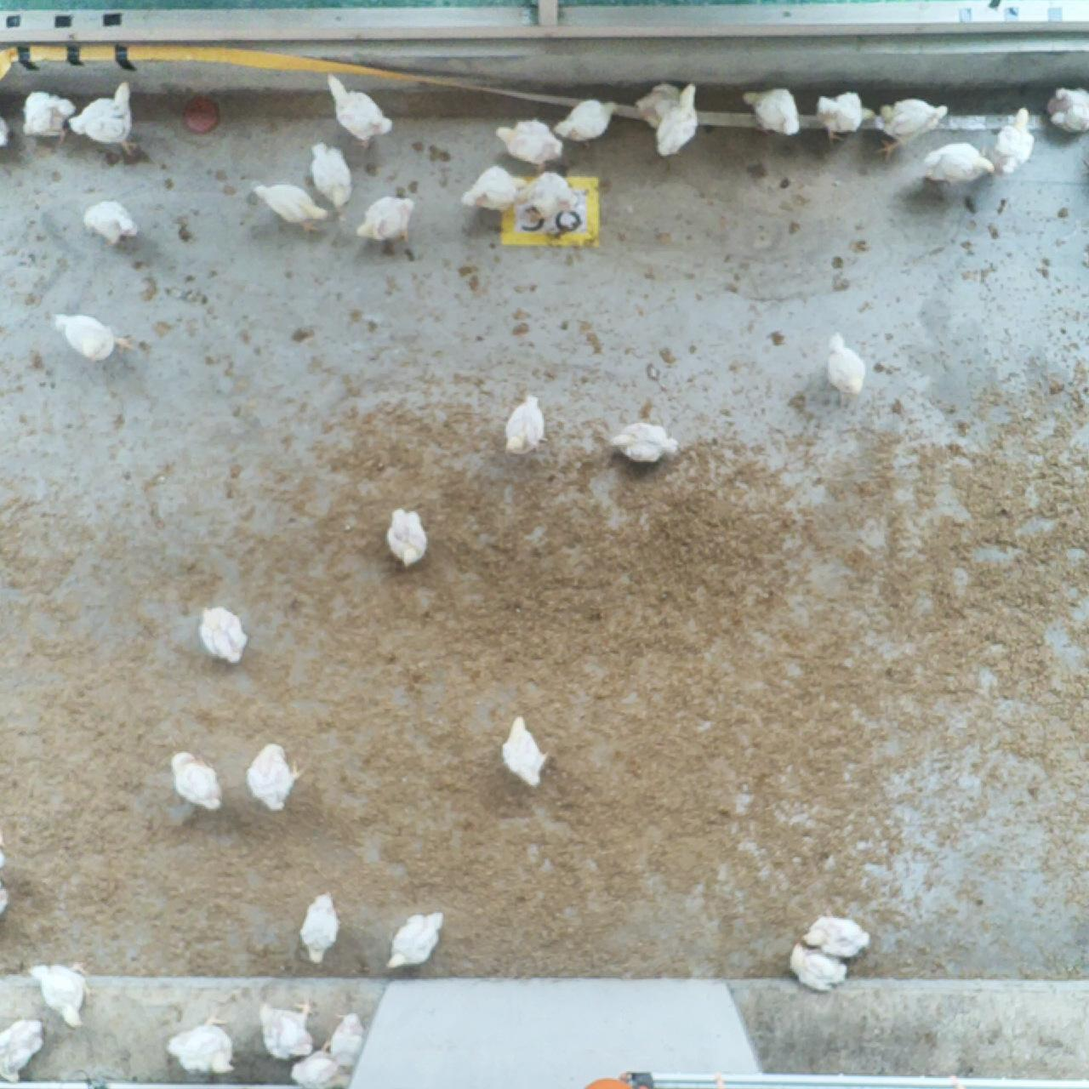chicken: (65, 78, 145, 160), (318, 68, 396, 152), (23, 953, 97, 1033), (49, 306, 140, 368), (870, 93, 950, 163), (162, 1003, 238, 1076), (243, 738, 308, 814), (250, 175, 331, 234), (495, 713, 555, 792), (256, 992, 320, 1066), (492, 114, 568, 176), (821, 326, 876, 411), (191, 597, 254, 669), (308, 136, 359, 224), (918, 134, 995, 192), (163, 742, 225, 814), (800, 904, 876, 962), (981, 101, 1037, 178), (551, 91, 623, 150), (654, 80, 707, 159), (383, 908, 448, 972), (351, 190, 419, 251), (293, 887, 344, 968), (739, 78, 804, 140), (457, 162, 528, 218), (608, 419, 689, 468), (514, 166, 582, 224), (381, 505, 433, 580), (813, 86, 876, 147), (79, 195, 146, 252), (500, 388, 553, 459), (785, 938, 852, 994), (0, 1013, 49, 1086), (288, 1034, 352, 1089), (319, 1006, 372, 1072), (20, 88, 78, 148), (1043, 83, 1089, 140), (630, 79, 682, 129)
